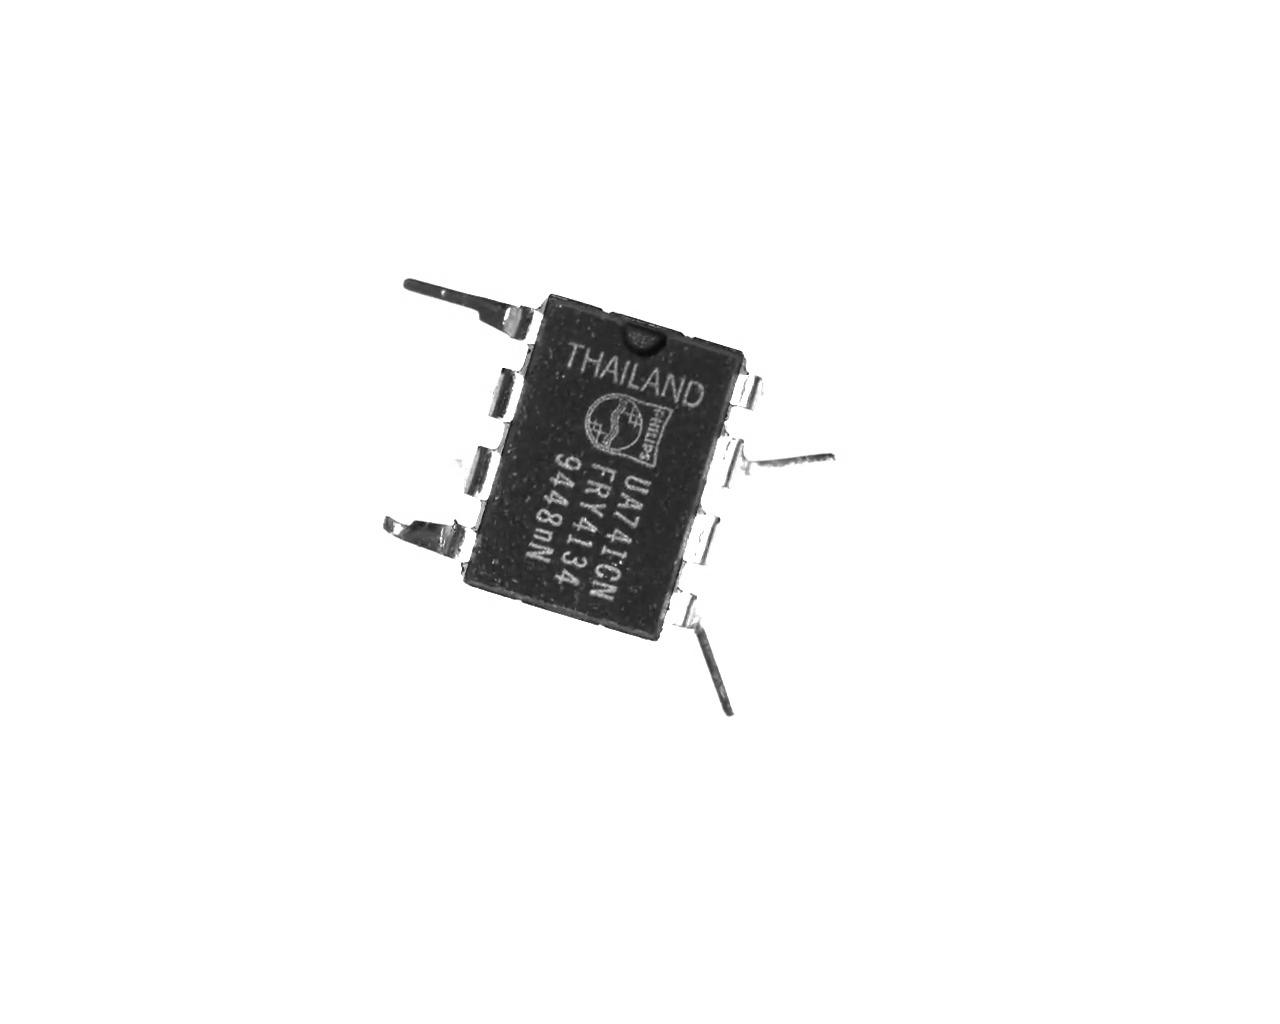Leg: (365, 258, 543, 351), (656, 580, 738, 721), (699, 428, 843, 503), (368, 503, 486, 575), (435, 447, 506, 501), (725, 363, 776, 430), (686, 494, 726, 571), (481, 363, 528, 424)
